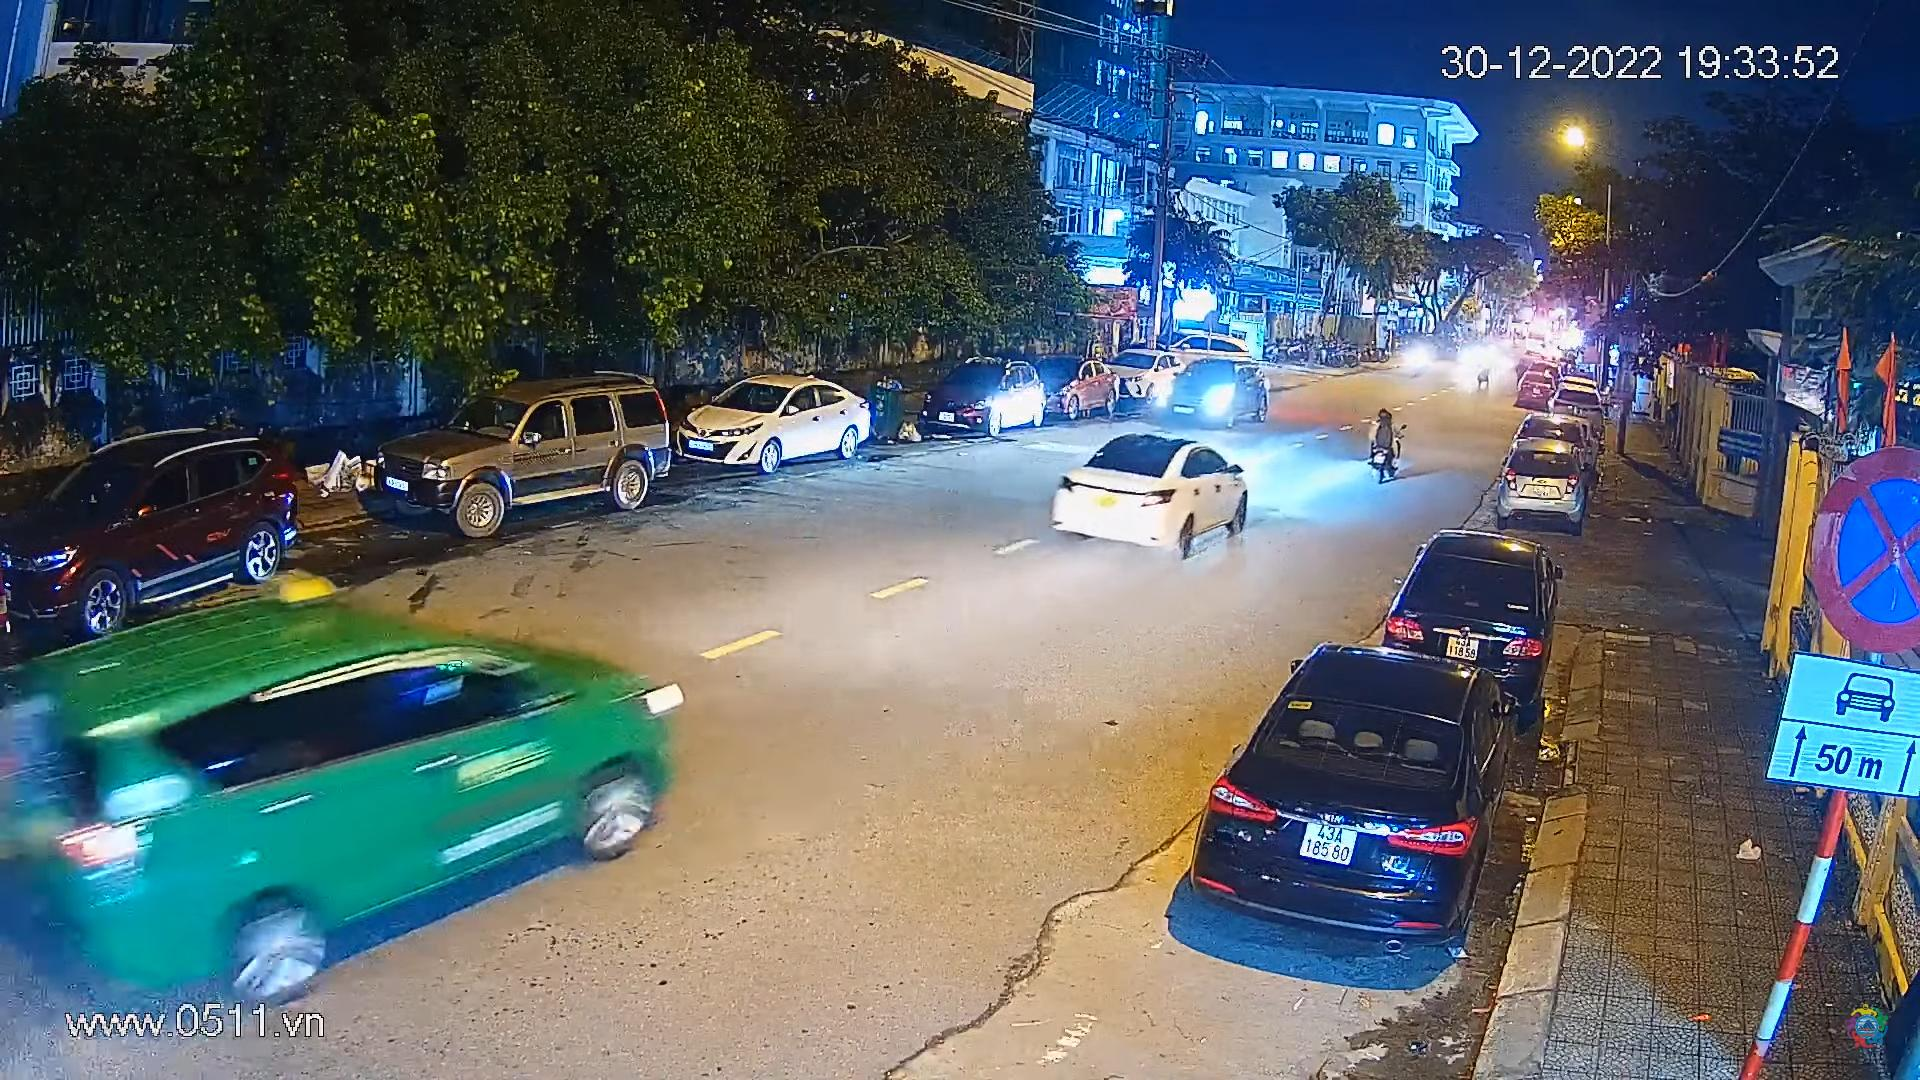car: (0, 572, 683, 1011), (1189, 641, 1506, 963), (0, 422, 303, 633), (369, 367, 674, 538), (1379, 533, 1568, 707), (1044, 434, 1257, 566), (676, 371, 873, 473), (915, 352, 1046, 439), (1493, 439, 1590, 530), (1156, 357, 1271, 429), (1025, 348, 1121, 422), (1106, 348, 1191, 402), (1509, 415, 1590, 465), (1551, 373, 1606, 431), (1509, 368, 1559, 410)
motorcycle: (1362, 407, 1412, 485)
